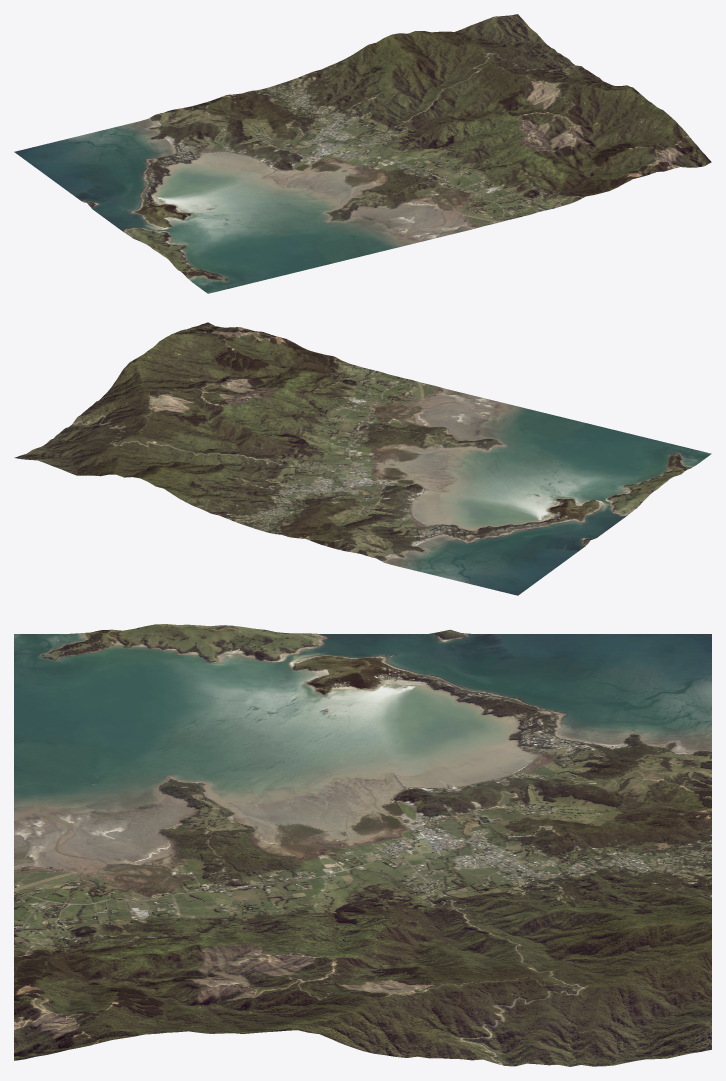
Rendered from coromandel.gltf.
3 views of the same model, one above another, from view 1: azimuth 30°, elevation 25°; view 2: azimuth 150°, elevation 25°; view 3: azimuth 270°, elevation 25° (orthographic). The views are drawn at different scales.
Parts seen in each view (by area): view 1: coro_big; view 2: coro_big; view 3: coro_big, coro_detailed-convcol.
Boxes of the visible parts, x1,y1,x2,y2 form: coro_big: (14, 14, 711, 293); coro_big: (14, 322, 711, 595); coro_big: (14, 624, 711, 1066); coro_detailed-convcol: (392, 832, 428, 859).
Size of the model in its own units: 11007 by 536 by 7338.
Materials: 2 (2 with a texture image).
